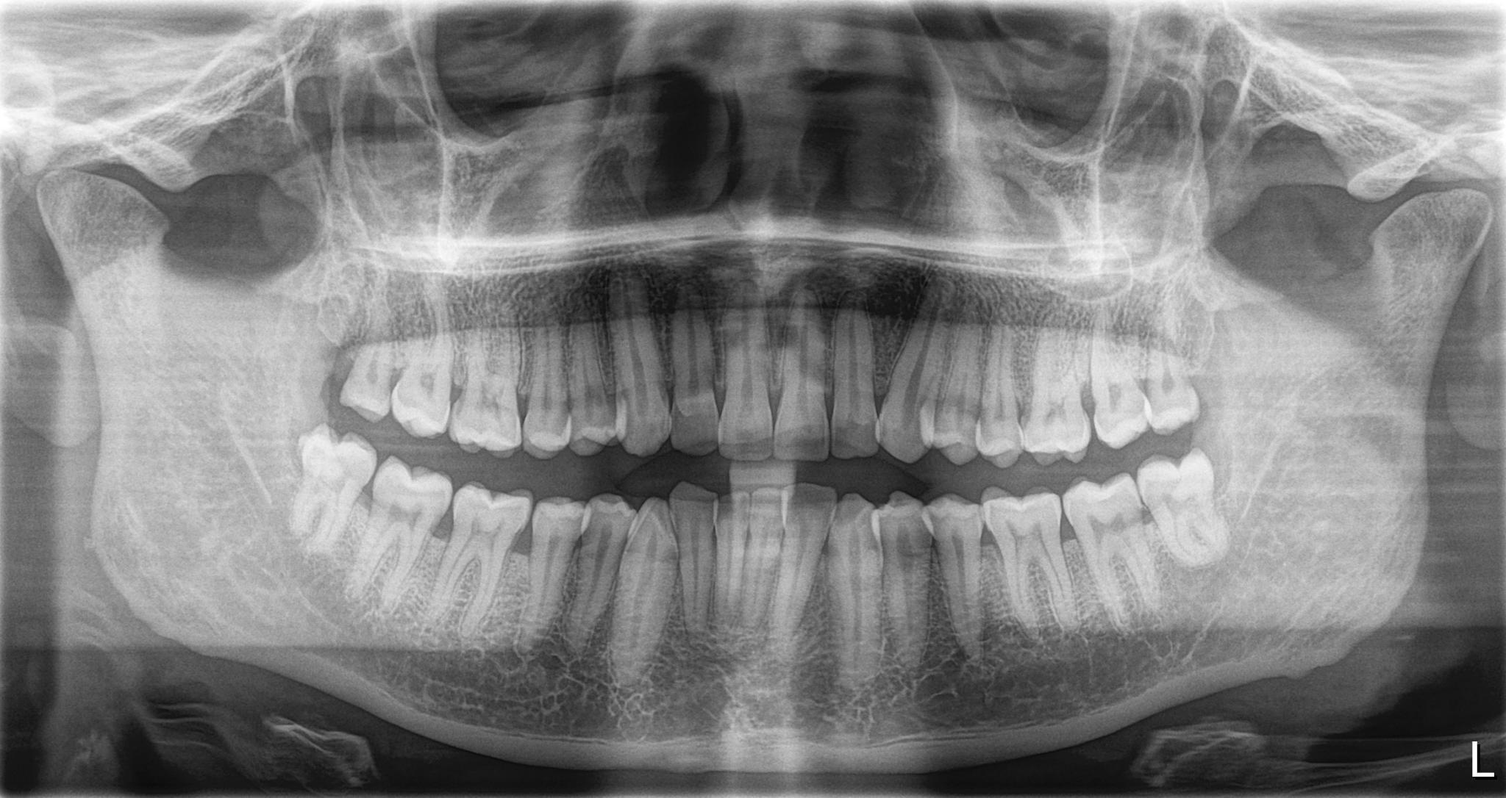Impacted Third Molar: (293, 419, 377, 545), (1143, 454, 1220, 585)
